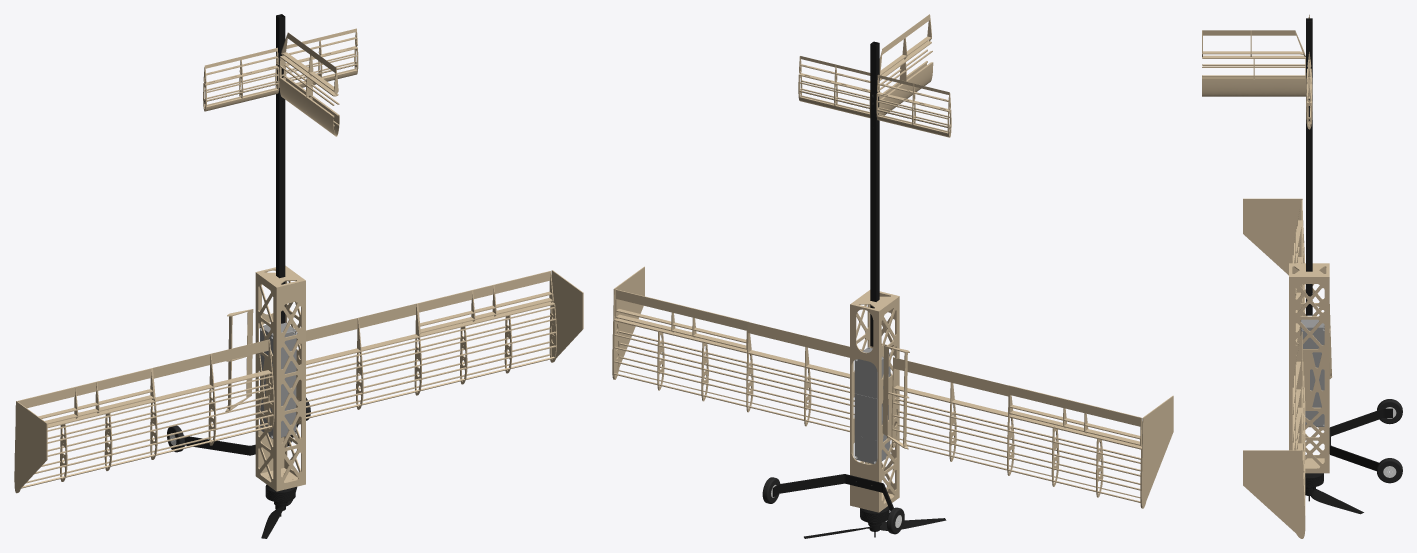
Rendered from assembly.glb.
3 renders of one model, left to right at view 1: azimuth 30°, elevation 25°; view 2: azimuth 150°, elevation 25°; view 3: azimuth 270°, elevation 25°, orthographic. The views are drawn at different scales.
Parts seen in each view (by area): view 1: cad-69-Fuselage_Top_Panel, cad-5-Fuselage_Wall, cad-71-CF_Tube_20x20mm, cad-133-Endplate V07 705_01 Half Sized 45deg Sweep(Mirror), cad-132-Endplate V07 705_01 Half Sized 45deg Sweep, cad-52-Aileron_rare_plate(Mirror), cad-33-Wing_trailing_edge, cad-36-Aileron_rare_plate, cad-88-VT_Leading_Edge, cad-49-Wing_trailing_edge(Mirror), cad-48-Wing_spar(Mirror), cad-32-Wing_spar (+5 smaller); view 2: cad-71-CF_Tube_20x20mm, cad-5-Fuselage_Wall, cad-1-Fuselage_Floor, cad-133-Endplate V07 705_01 Half Sized 45deg Sweep(Mirror), cad-132-Endplate V07 705_01 Half Sized 45deg Sweep, cad-36-Aileron_rare_plate, cad-52-Aileron_rare_plate(Mirror), cad-33-Wing_trailing_edge, cad-15-SOLID, cad-49-Wing_trailing_edge(Mirror), cad-32-Wing_spar, cad-8-MidSectionSegment (+5 smaller); view 3: cad-4-Fuselage_Wall, cad-132-Endplate V07 705_01 Half Sized 45deg Sweep, cad-133-Endplate V07 705_01 Half Sized 45deg Sweep(Mirror), cad-88-VT_Leading_Edge, cad-71-CF_Tube_20x20mm, cad-15-SOLID, cad-5-Fuselage_Wall, cad-9-TailSegment, cad-92-Trailing_Edge, cad-14-LandingGearWheel, cad-70-Fuselage_Rear_Plate, cad-11-17 Inch Prop (+7 smaller).
Boxes of the visible parts, x1=… form: cad-69-Fuselage_Top_Panel: x1=276, y1=281, x2=305, y2=491; cad-5-Fuselage_Wall: x1=255, y1=273, x2=275, y2=490; cad-71-CF_Tube_20x20mm: x1=276, y1=14, x2=285, y2=323; cad-133-Endplate V07 705_01 Half Sized 45deg Sweep(Mirror): x1=14, y1=401, x2=47, y2=493; cad-132-Endplate V07 705_01 Half Sized 45deg Sweep: x1=551, y1=270, x2=583, y2=362; cad-52-Aileron_rare_plate(Mirror): x1=417, y1=271, x2=550, y2=312; cad-33-Wing_trailing_edge: x1=152, y1=339, x2=269, y2=378; cad-36-Aileron_rare_plate: x1=17, y1=368, x2=151, y2=408; cad-88-VT_Leading_Edge: x1=279, y1=76, x2=339, y2=136; cad-49-Wing_trailing_edge(Mirror): x1=306, y1=303, x2=416, y2=341; cad-48-Wing_spar(Mirror): x1=306, y1=302, x2=554, y2=365; cad-32-Wing_spar: x1=47, y1=370, x2=271, y2=427; cad-71-CF_Tube_20x20mm: x1=870, y1=41, x2=879, y2=346; cad-5-Fuselage_Wall: x1=878, y1=298, x2=899, y2=511; cad-1-Fuselage_Floor: x1=850, y1=305, x2=879, y2=512; cad-133-Endplate V07 705_01 Half Sized 45deg Sweep(Mirror): x1=1141, y1=395, x2=1173, y2=508; cad-132-Endplate V07 705_01 Half Sized 45deg Sweep: x1=612, y1=266, x2=644, y2=379; cad-36-Aileron_rare_plate: x1=1009, y1=385, x2=1141, y2=426; cad-52-Aileron_rare_plate(Mirror): x1=615, y1=289, x2=747, y2=330; cad-33-Wing_trailing_edge: x1=893, y1=357, x2=1009, y2=396; cad-15-SOLID: x1=772, y1=474, x2=893, y2=511; cad-49-Wing_trailing_edge(Mirror): x1=747, y1=322, x2=861, y2=357; cad-32-Wing_spar: x1=893, y1=385, x2=1141, y2=449; cad-8-MidSectionSegment: x1=854, y1=393, x2=888, y2=440; cad-4-Fuselage_Wall: x1=1290, y1=278, x2=1329, y2=473; cad-132-Endplate V07 705_01 Half Sized 45deg Sweep: x1=1243, y1=450, x2=1305, y2=538; cad-133-Endplate V07 705_01 Half Sized 45deg Sweep(Mirror): x1=1243, y1=198, x2=1304, y2=275; cad-88-VT_Leading_Edge: x1=1202, y1=76, x2=1305, y2=96; cad-71-CF_Tube_20x20mm: x1=1306, y1=18, x2=1312, y2=315; cad-15-SOLID: x1=1329, y1=408, x2=1392, y2=471; cad-5-Fuselage_Wall: x1=1292, y1=267, x2=1326, y2=458; cad-9-TailSegment: x1=1300, y1=319, x2=1324, y2=362; cad-92-Trailing_Edge: x1=1203, y1=30, x2=1295, y2=35; cad-14-LandingGearWheel: x1=1377, y1=458, x2=1402, y2=483; cad-70-Fuselage_Rear_Plate: x1=1289, y1=263, x2=1329, y2=277; cad-11-17 Inch Prop: x1=1305, y1=489, x2=1363, y2=514.
Bounding box in the file's own units: 1.83 × 1.63 × 0.6175.
